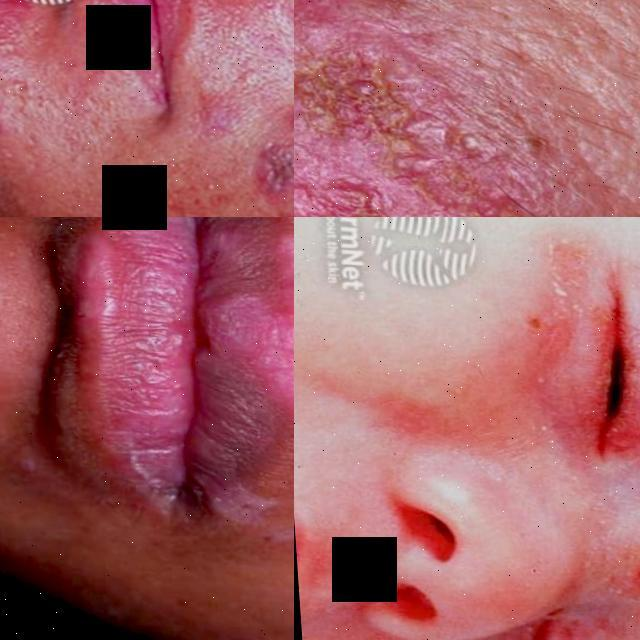lupus-detected: (294, 228, 640, 640), (22, 217, 294, 577), (294, 0, 621, 217), (0, 0, 65, 188)
